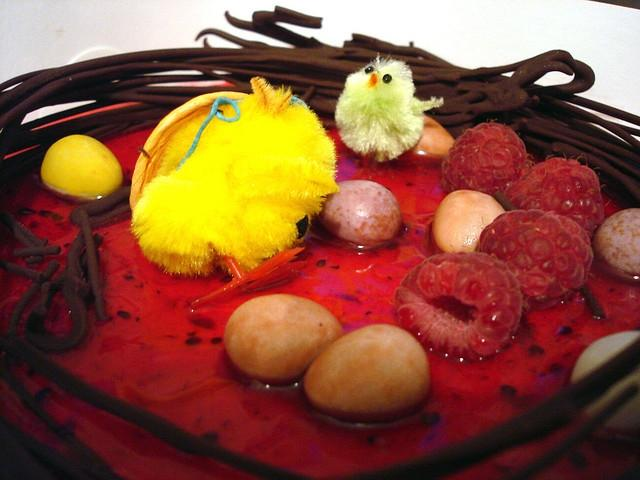raspberry: (393, 250, 522, 363), (478, 209, 594, 312), (504, 158, 605, 241), (441, 122, 532, 196)
